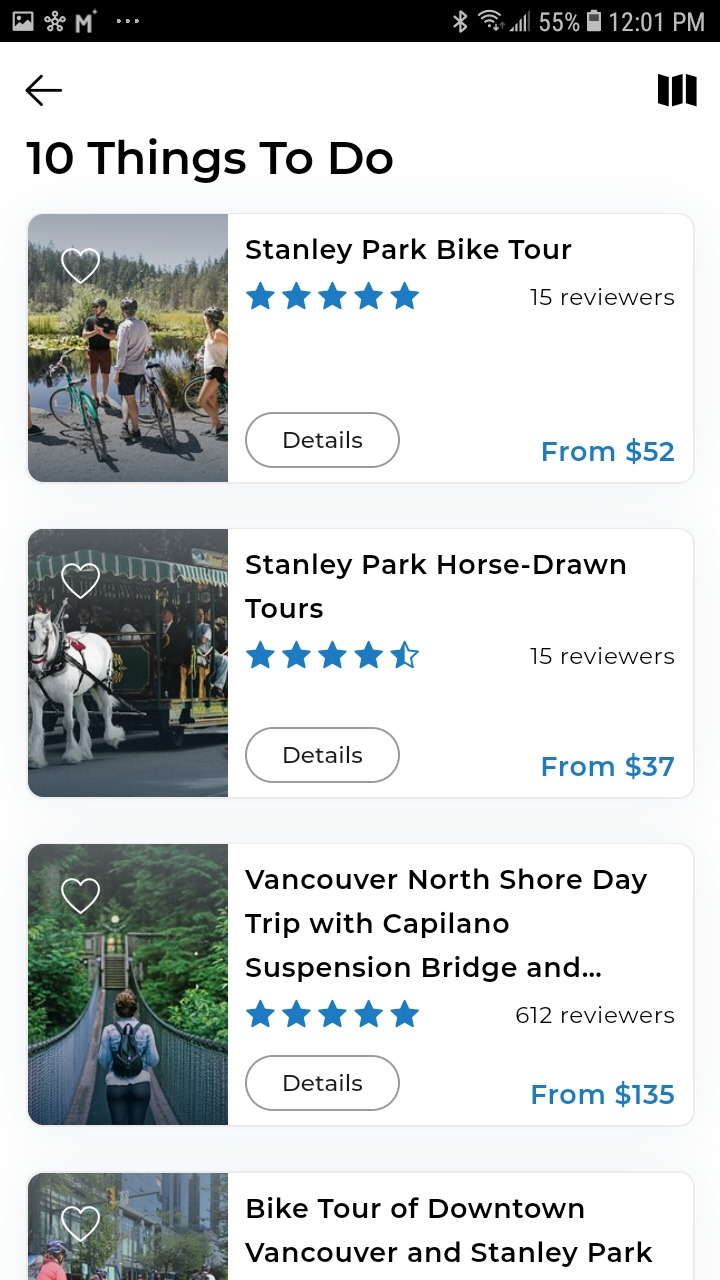Icon: (246, 641, 420, 669), (246, 282, 420, 310), (247, 1000, 419, 1027), (62, 562, 102, 600), (61, 248, 101, 286), (62, 1206, 101, 1242), (62, 878, 101, 914), (657, 74, 697, 108), (26, 75, 63, 107)
Image: (29, 844, 229, 1125), (28, 529, 228, 797), (29, 215, 229, 483), (29, 1173, 229, 1280)
Text: (245, 1197, 653, 1268), (245, 868, 648, 939), (245, 553, 626, 620), (27, 138, 393, 185), (246, 955, 602, 983), (246, 238, 572, 265), (532, 1080, 675, 1108), (542, 753, 674, 780), (543, 438, 674, 465), (516, 1005, 675, 1024), (530, 647, 674, 665), (530, 289, 674, 307)
TextButton: (245, 412, 401, 469), (246, 1055, 401, 1111), (246, 727, 401, 783)
UpperTaskBar: (1, 1, 720, 43)
